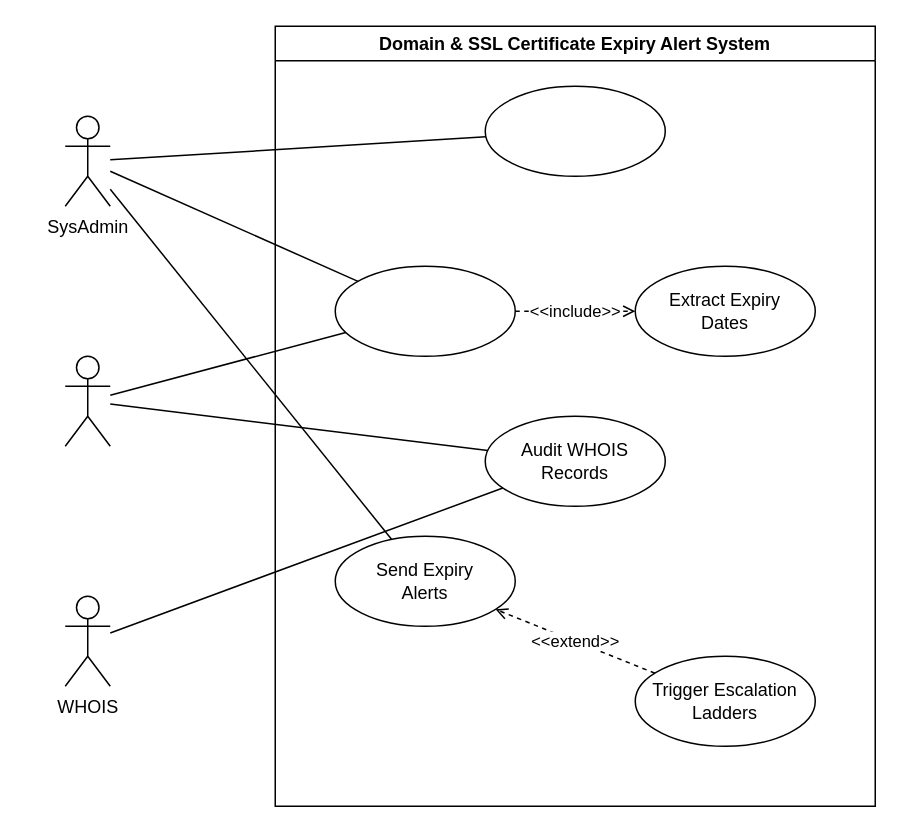
This 902x833 diagram has some shape labels left out. The shapes that lost their labels are listed below. From the top down, each one's box as (x1, y1, x2, y2) in pixels, then its label:
(484, 85, 665, 176): Manage Monitored Domains
(334, 265, 515, 356): Audit SSL/TLS Handshakes
(64, 355, 110, 446): Security Officer
